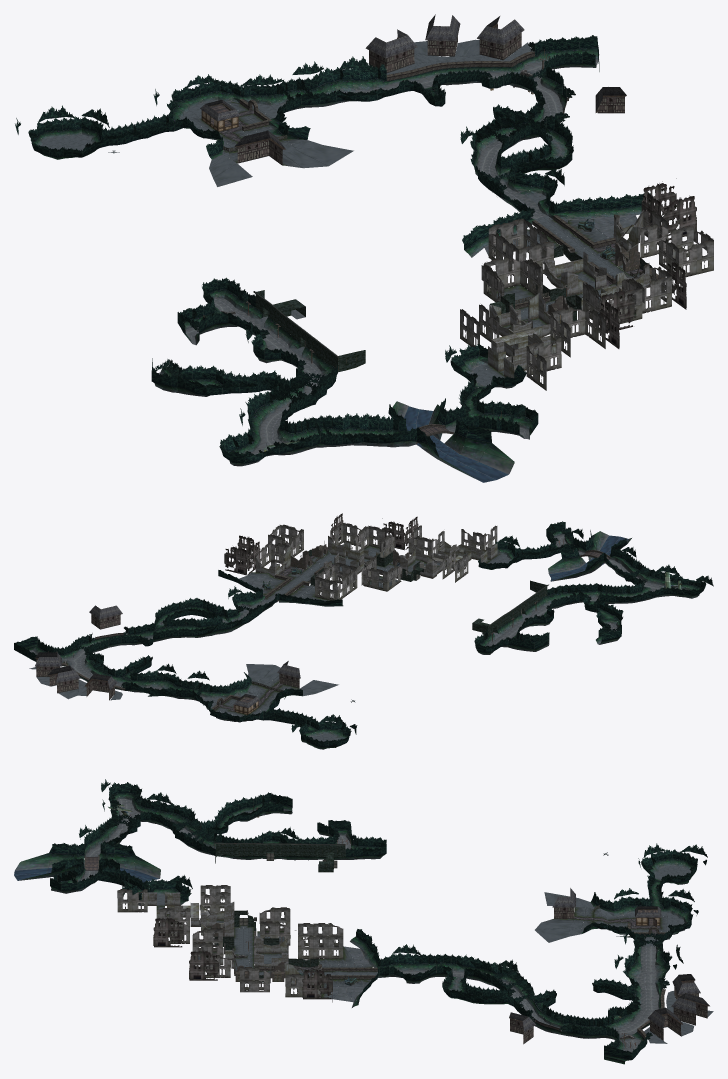
File: MOH-MSN1LVL1.obj
The picture shows the model from 3 angles, top to bottom: view 1: azimuth 30°, elevation 25°; view 2: azimuth 150°, elevation 25°; view 3: azimuth 270°, elevation 25°; orthographic projection. The views are drawn at different scales.
Parts seen in each view (by area): view 1: TSP3, TSP8, TSP9, TSP6, TSP4, TSP5, TSP2, TSP1, TSP7; view 2: TSP3, TSP9, TSP6, TSP4, TSP8, TSP5, TSP7, TSP2, TSP1; view 3: TSP3, TSP9, TSP6, TSP8, TSP4, TSP5, TSP2, TSP7, TSP1.
Part boxes in pixels (bbox=[...]): TSP3: bbox=[290, 337, 561, 482]; TSP8: bbox=[242, 14, 541, 116]; TSP9: bbox=[15, 74, 353, 186]; TSP6: bbox=[460, 119, 676, 260]; TSP4: bbox=[460, 262, 686, 357]; TSP5: bbox=[481, 194, 713, 296]; TSP2: bbox=[151, 358, 335, 466]; TSP1: bbox=[177, 277, 355, 386]; TSP7: bbox=[461, 35, 626, 151]; TSP3: bbox=[456, 521, 679, 592]; TSP9: bbox=[202, 661, 357, 749]; TSP6: bbox=[156, 546, 343, 637]; TSP4: bbox=[328, 513, 468, 591]; TSP8: bbox=[29, 652, 221, 705]; TSP5: bbox=[237, 524, 394, 597]; TSP7: bbox=[14, 605, 207, 666]; TSP2: bbox=[561, 573, 713, 644]; TSP1: bbox=[472, 582, 569, 654]; TSP3: bbox=[14, 799, 215, 918]; TSP9: bbox=[535, 843, 707, 942]; TSP6: bbox=[318, 927, 512, 1007]; TSP8: bbox=[592, 926, 713, 1043]; TSP4: bbox=[153, 885, 289, 980]; TSP5: bbox=[234, 908, 342, 999]; TSP2: bbox=[101, 779, 292, 854]; TSP7: bbox=[495, 961, 647, 1064]; TSP1: bbox=[197, 820, 386, 872].
Size of the model in its own units: 7.95 by 0.5691 by 8.92.
